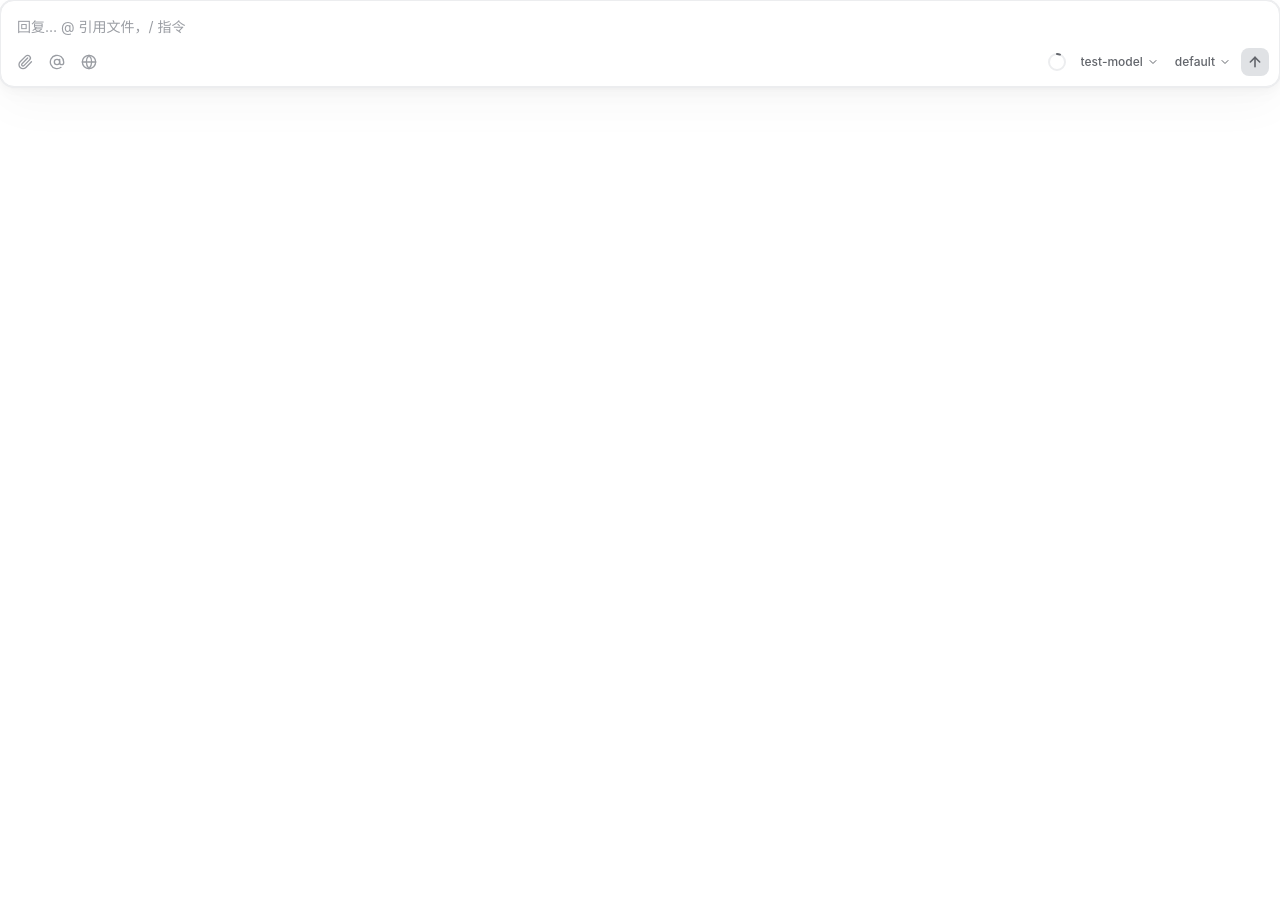
Test case: 有缓存数据时显示本会话累计命中率，保留一位小数
The image size is (1280, 900).
Click the button named "上下文占用" at (1057,62), box [1043, 48, 1071, 76]
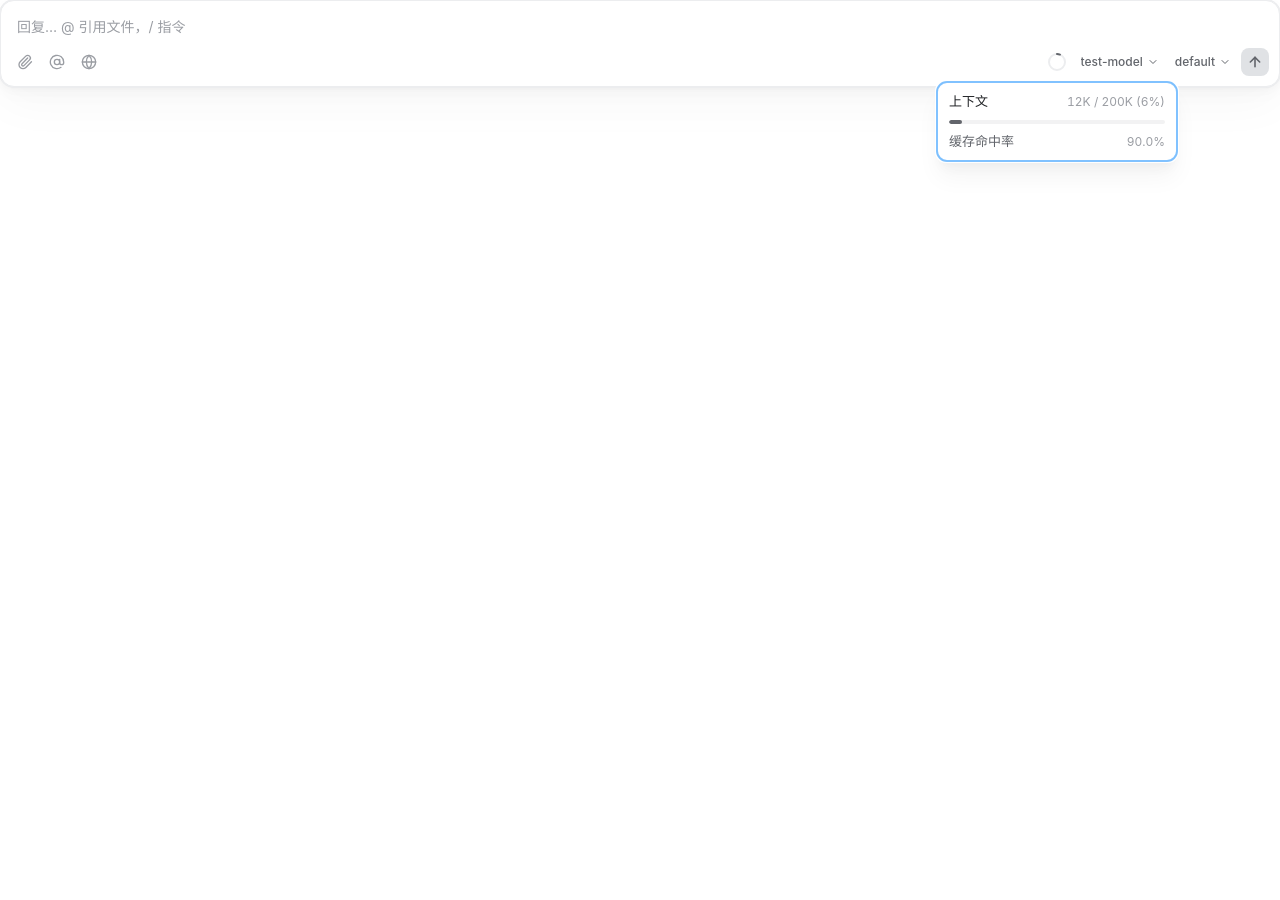
Expected: the text "90.0%" is shown, [1127, 132, 1165, 150]
